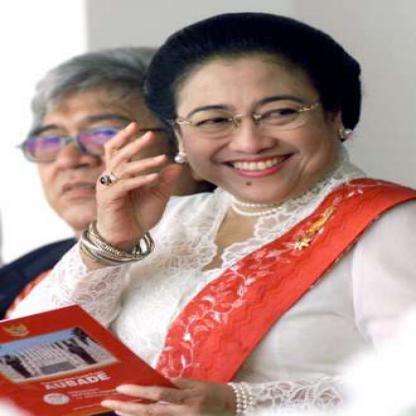face: (173, 22, 337, 205), (20, 56, 184, 232)
